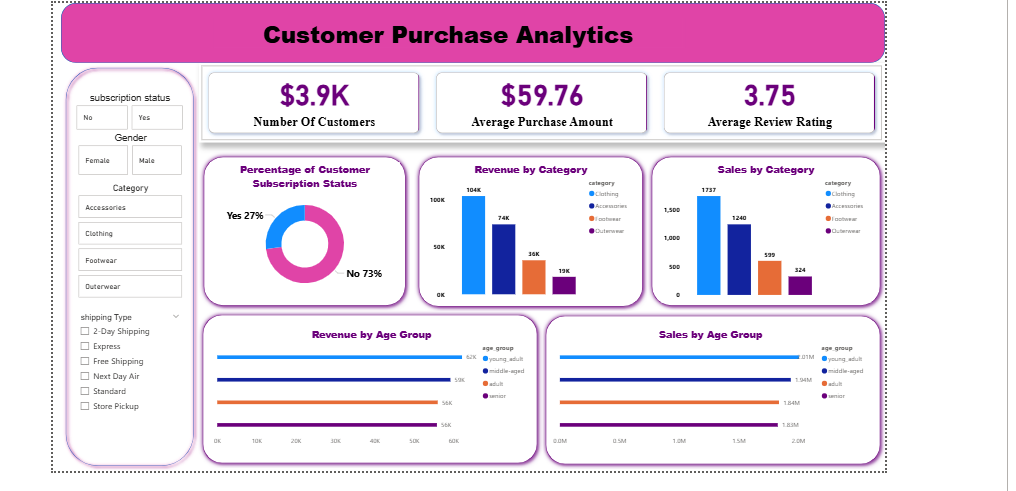

The dashboard page shown, as its layout file describes it:
{"tool":"powerbi","page":{"name":"Page 1","canvas":[1600,900],"ordinal":0},"visuals":[{"type":"cardVisual","fields":{"Data":["customer_behaviour customer.number of customers","customer_behaviour customer.average of purchase amount","customer_behaviour customer.average review rating"]},"box":[280.4,115.3,1319.6,153.1],"z":0},{"type":"shape","box":[15.5,0,1584.5,115.3],"z":1000},{"type":"textbox","title":"Customer Purchase Analytics","box":[304.5,29.2,911.8,56.8],"z":2000},{"type":"shape","box":[280.4,287.3,406,304.5],"z":3000},{"type":"donutChart","title":"Percentage of Customer Subscription Status","fields":{"Category":["customer_behaviour customer.subscription_status"],"Y":["CountNonNull(customer_behaviour customer.customer_id)"]},"box":[301.1,306.2,364.7,261.5],"z":4000},{"type":"shape","box":[693.3,287.3,449,306.2],"z":5000},{"type":"shape","box":[1142.4,287.3,457.6,304.5],"z":6000},{"type":"columnChart","title":"Revenue by Category","fields":{"Y":["Sum(customer_behaviour customer.purchase_amount)"],"Category":["customer_behaviour customer.category"],"Series":["customer_behaviour customer.category"]},"box":[719.1,306.2,399.1,268.4],"z":7000},{"type":"columnChart","title":"Sales by Category","fields":{"Y":["CountNonNull(customer_behaviour customer.customer_id)"],"Category":["customer_behaviour customer.category"],"Series":["customer_behaviour customer.category"]},"box":[1169.6,305.4,403.6,269.6],"z":8000},{"type":"shape","box":[16.1,116.1,264.3,783.9],"z":9000},{"type":"advancedSlicerVisual","title":"Gender","fields":{"Values":["customer_behaviour customer.gender"]},"box":[44.7,247.7,209.9,87.7],"z":10000},{"type":"advancedSlicerVisual","title":"subscription status","fields":{"Values":["customer_behaviour customer.subscription_status"]},"box":[39.6,170.3,215.1,77.4],"z":11000},{"type":"advancedSlicerVisual","title":"Category","fields":{"Values":["customer_behaviour customer.category"]},"box":[44.7,345.8,209.9,228.8],"z":12000},{"type":"slicer","fields":{"Values":["customer_behaviour customer.shipping_type"]},"box":[40.4,590.4,215.4,242.3],"z":13000},{"type":"shape","box":[278.8,590.4,661.5,303.8],"z":14002},{"type":"clusteredBarChart","title":"Revenue by Age Group","fields":{"Y":["Sum(customer_behaviour customer.purchase_amount)"],"Category":["customer_behaviour customer.age_group"],"Series":["customer_behaviour customer.age_group"]},"box":[303.8,623.1,617.3,236.5],"z":14003},{"type":"shape","box":[938.5,592.3,661.5,303.8],"z":14004},{"type":"clusteredBarChart","title":"Sales by Age Group","fields":{"Category":["customer_behaviour customer.age_group"],"Series":["customer_behaviour customer.age_group"],"Y":["Sum(customer_behaviour customer.customer_id)"]},"box":[955.8,623.1,617.3,236.5],"z":14005}]}

Visuals, with their boxes in screenshot pixels (x1, y1, x2, y2):
cardVisual - customer_behaviour customer.number of customers x customer_behaviour customer.average of purchase amount: <box>191,60,877,140</box>
shape: <box>53,0,877,60</box>
"Customer Purchase Analytics" textbox: <box>203,15,678,45</box>
shape: <box>191,149,402,308</box>
"Percentage of Customer Subscription Status" donutChart: <box>202,159,391,295</box>
shape: <box>406,149,639,309</box>
shape: <box>639,149,877,308</box>
"Revenue by Category" columnChart: <box>419,159,627,299</box>
"Sales by Category" columnChart: <box>653,159,863,299</box>
shape: <box>53,60,191,468</box>
"Gender" advancedSlicerVisual: <box>68,129,177,174</box>
"subscription status" advancedSlicerVisual: <box>66,89,177,129</box>
"Category" advancedSlicerVisual: <box>68,180,177,299</box>
slicer - customer_behaviour customer.shipping_type: <box>66,307,178,433</box>
shape: <box>190,307,534,465</box>
"Revenue by Age Group" clusteredBarChart: <box>203,324,524,447</box>
shape: <box>533,308,877,466</box>
"Sales by Age Group" clusteredBarChart: <box>542,324,863,447</box>
